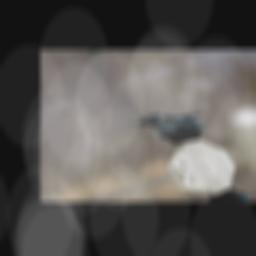Crow: (132, 101, 216, 158)
